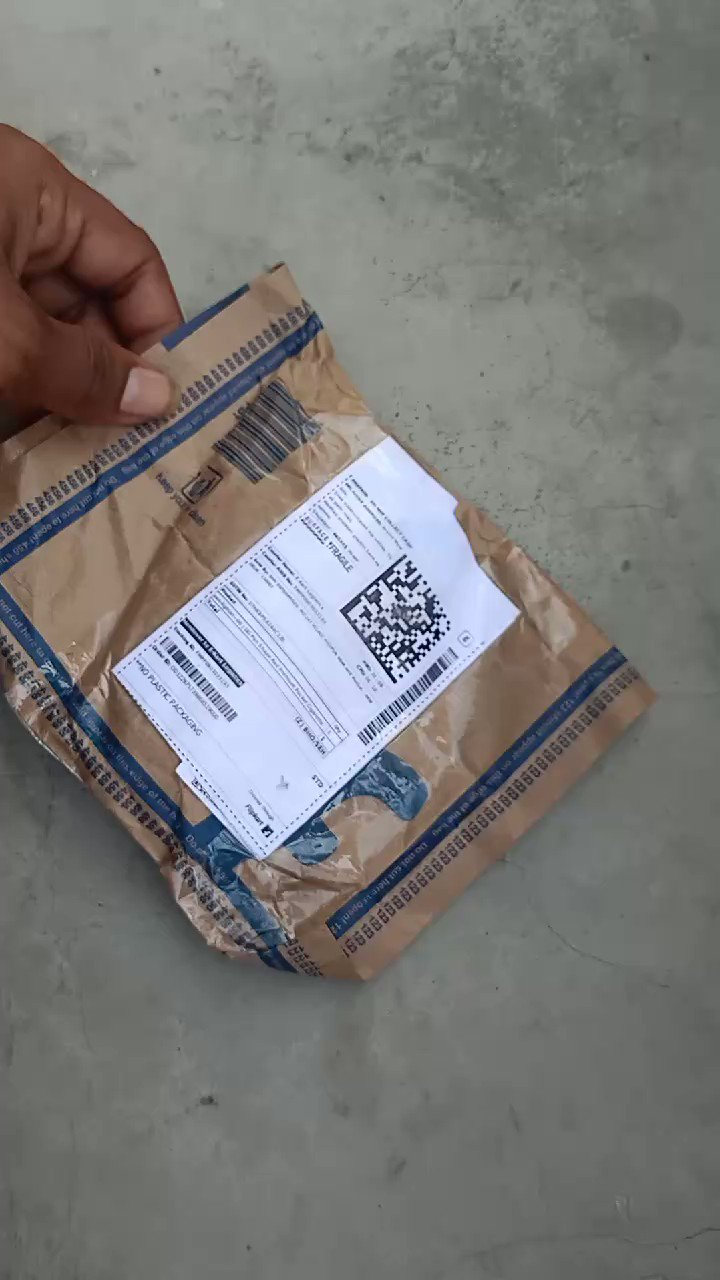QRCode: (138, 528, 502, 751)
